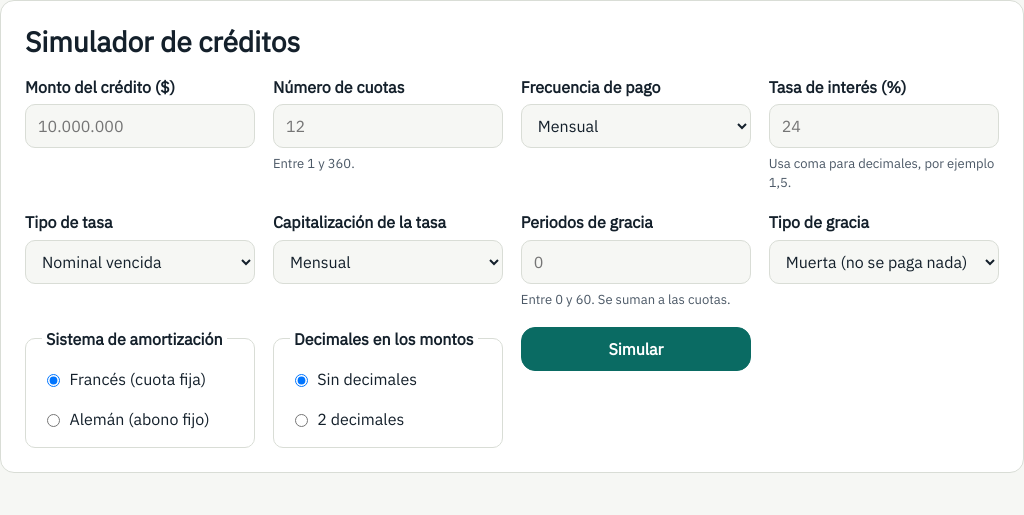
Test: HU-07: datos del crédito › al corregir el campo y salir, el error desaparece
Type "361" into the field labelled "Número de cuotas".
click(388, 126); type("361")  # box [273,104,503,148]
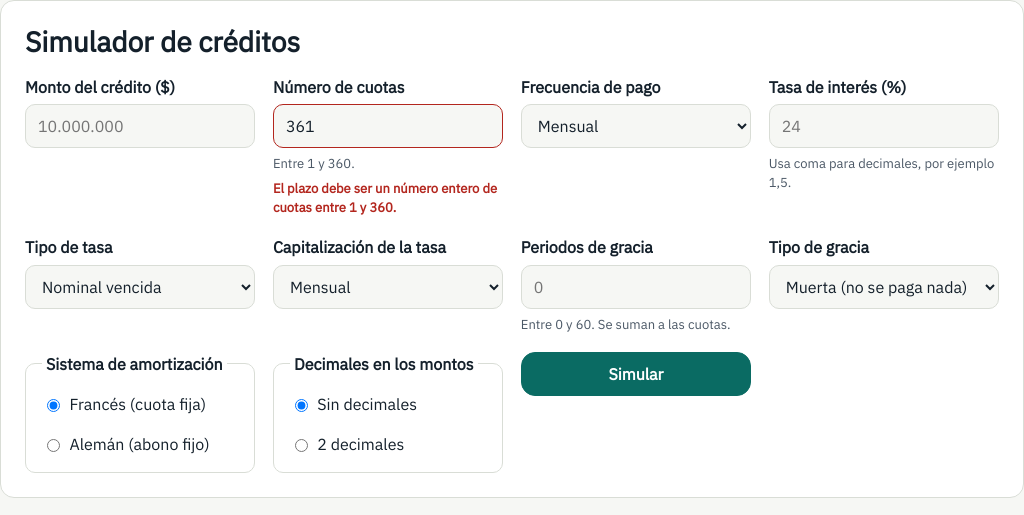
Replace the text in the field labelled "Número de cuotas" with "12" at [388, 126], box [273,104,503,148]
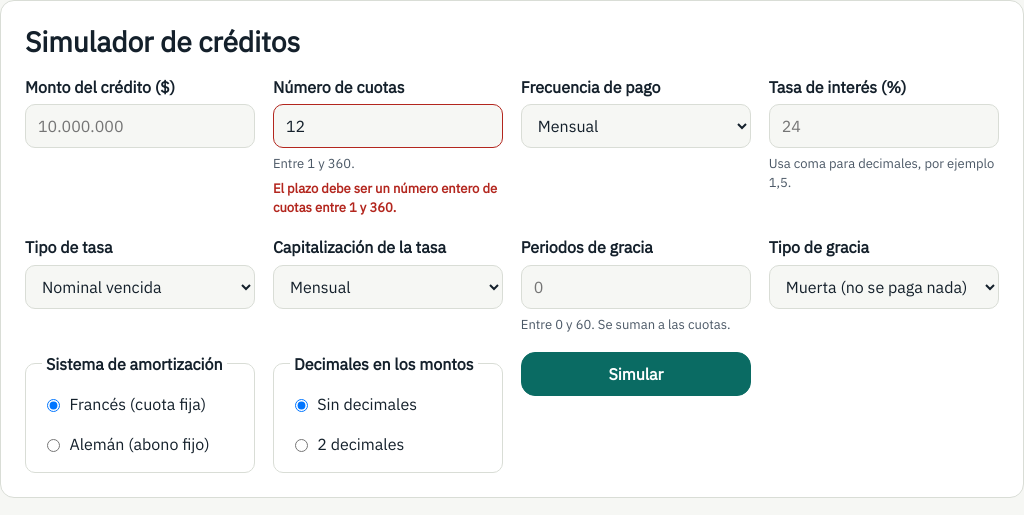
Leave the field labelled "Número de cuotas", box [273,104,503,148]
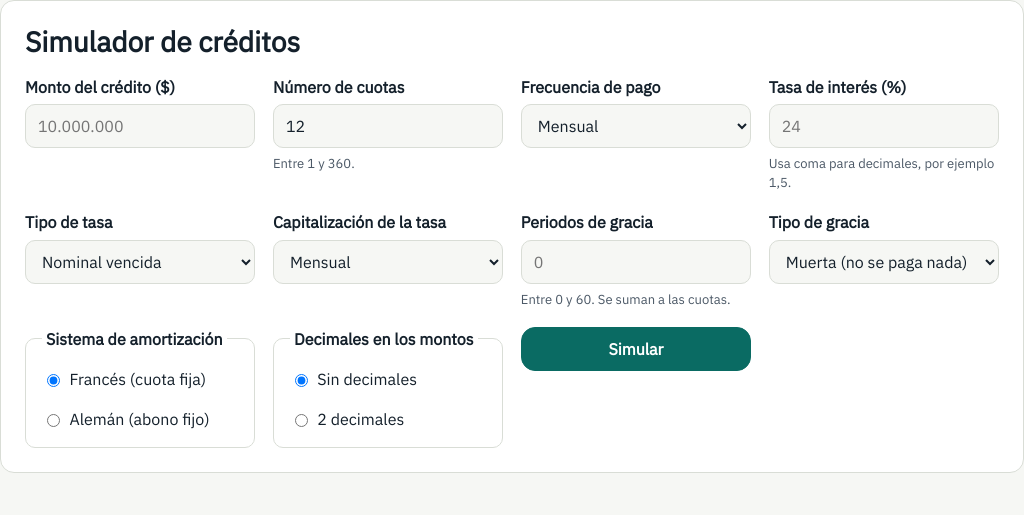
Result: the text "El plazo debe ser un número entero de cuotas entre 1 y 360." is gone
